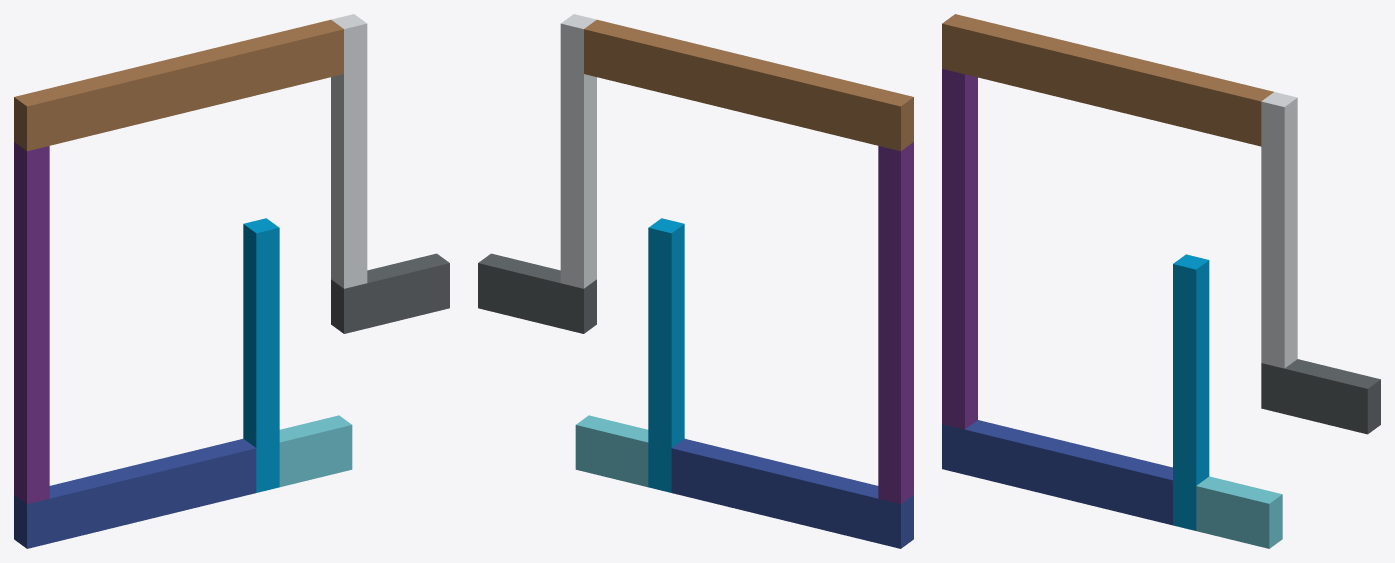
File: tinker.obj
3 renders of one model, left to right at view 1: azimuth 30°, elevation 25°; view 2: azimuth 150°, elevation 25°; view 3: azimuth 330°, elevation 25°, orthographic.
Visible parts, largest first — view 1: group_0_11107152, group_0_3888547, group_0_8273816, group_0_40919, group_0_14541540, group_0_6383466, group_0_7720667; view 2: group_0_11107152, group_0_3888547, group_0_8273816, group_0_40919, group_0_14541540, group_0_6383466, group_0_7720667; view 3: group_0_11107152, group_0_3888547, group_0_8273816, group_0_14541540, group_0_40919, group_0_6383466, group_0_7720667.
Boxes of the visible parts, left/top/right/bottom form: group_0_11107152: left=14, top=19, right=343, bottom=151; group_0_3888547: left=14, top=438, right=256, bottom=548; group_0_8273816: left=14, top=142, right=49, bottom=503; group_0_40919: left=243, top=218, right=279, bottom=492; group_0_14541540: left=331, top=14, right=367, bottom=288; group_0_6383466: left=331, top=253, right=449, bottom=333; group_0_7720667: left=279, top=415, right=352, bottom=487; group_0_11107152: left=584, top=19, right=913, bottom=151; group_0_3888547: left=671, top=438, right=913, bottom=548; group_0_8273816: left=878, top=142, right=913, bottom=503; group_0_40919: left=648, top=218, right=684, bottom=492; group_0_14541540: left=560, top=14, right=596, bottom=288; group_0_6383466: left=478, top=253, right=596, bottom=333; group_0_7720667: left=575, top=415, right=648, bottom=487; group_0_11107152: left=942, top=14, right=1273, bottom=146; group_0_3888547: left=942, top=420, right=1172, bottom=525; group_0_8273816: left=942, top=69, right=977, bottom=429; group_0_14541540: left=1261, top=92, right=1297, bottom=368; group_0_40919: left=1173, top=254, right=1209, bottom=530; group_0_6383466: left=1261, top=359, right=1380, bottom=434; group_0_7720667: left=1196, top=476, right=1282, bottom=548.
Size of the model in its own units: 998 by 998 by 53.46.
